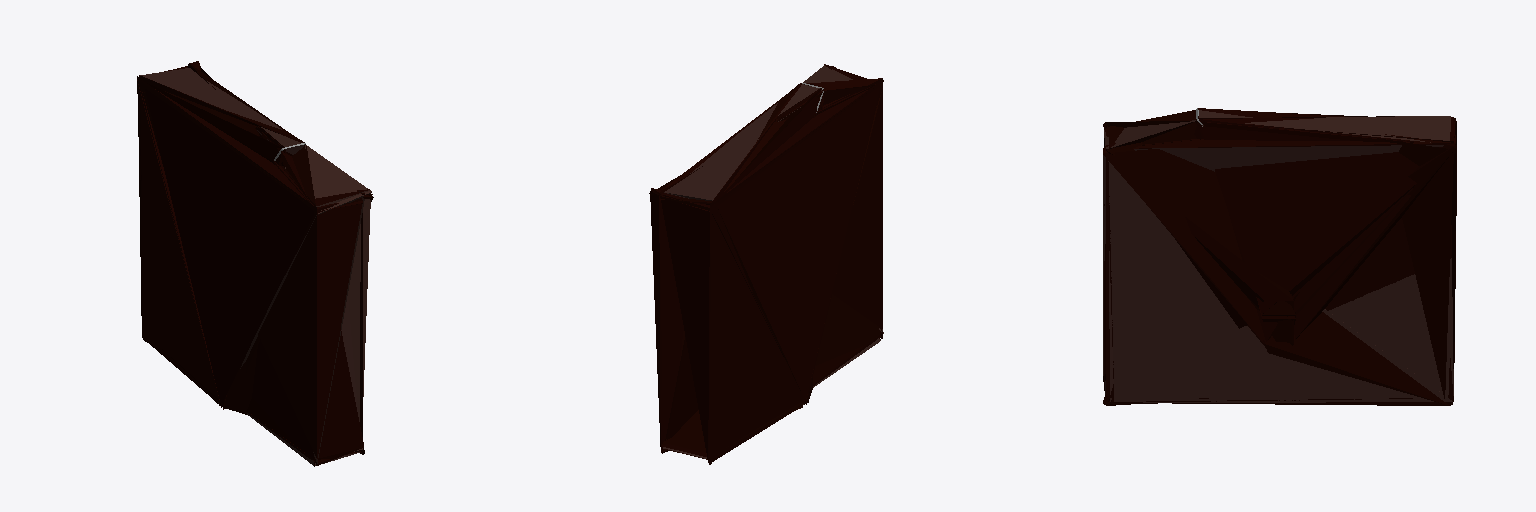
Rendered from Briefcase.obj.
3 renders of one model, left to right at view 1: azimuth 30°, elevation 25°; view 2: azimuth 150°, elevation 25°; view 3: azimuth 270°, elevation 25°, orthographic.
Visible parts, largest first — view 1: Box017; view 2: Box017; view 3: Box017.
Boxes of the visible parts, x1,y1,x2,y2 form: Box017: [137, 61, 373, 466]; Box017: [649, 64, 883, 464]; Box017: [1103, 108, 1456, 405].
Size of the model in its own units: 88573 by 326530 by 370853.